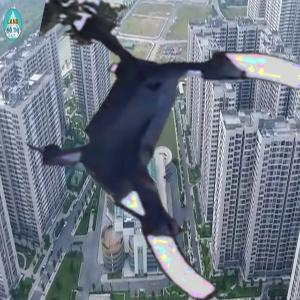drone: (19, 14, 300, 296)
